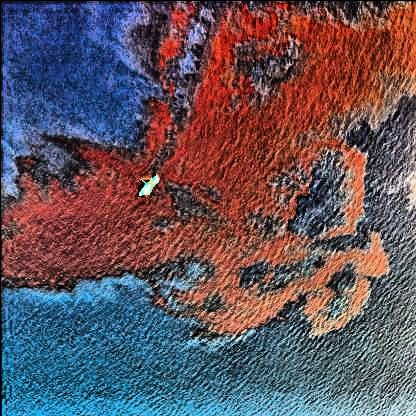truecolor: (2, 2, 416, 336)
